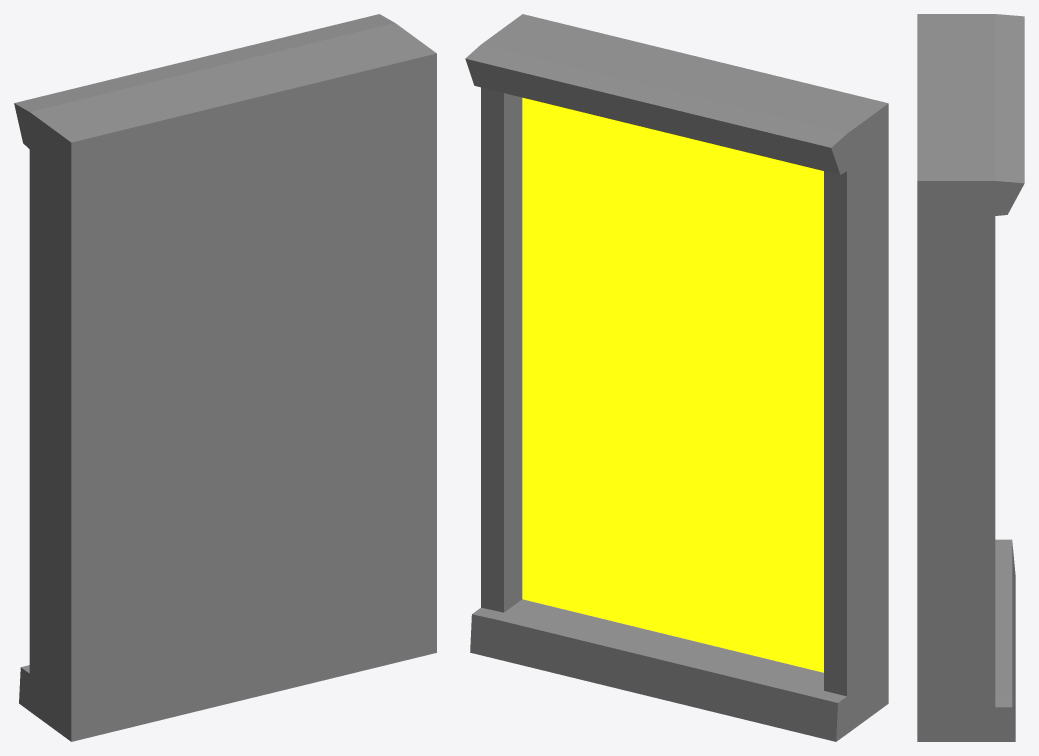
File: Window.fbx
The picture shows the model from 3 angles, left to right: view 1: azimuth 30°, elevation 25°; view 2: azimuth 150°, elevation 25°; view 3: azimuth 270°, elevation 25°; orthographic projection. The views are drawn at different scales.
Visible parts, largest first — view 1: Window.008; view 2: Window.008; view 3: Window.008.
Boxes of the visible parts, x1=… form: Window.008: x1=14, y1=14, x2=436, y2=741; Window.008: x1=465, y1=14, x2=888, y2=741; Window.008: x1=917, y1=14, x2=1024, y2=741.
Size of the model in its own units: 450 by 705 by 122.
